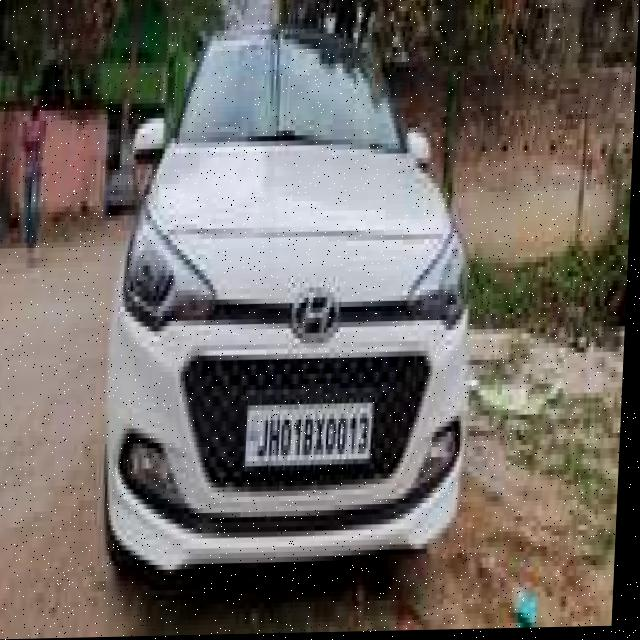plate: (248, 399, 379, 471)
